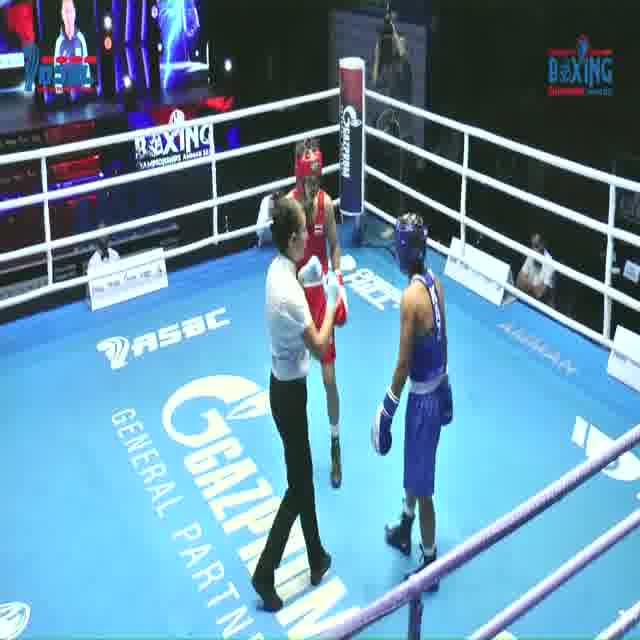blue-player: (368, 206, 453, 595)
red-player: (269, 136, 354, 490)
referee: (248, 187, 337, 617)
